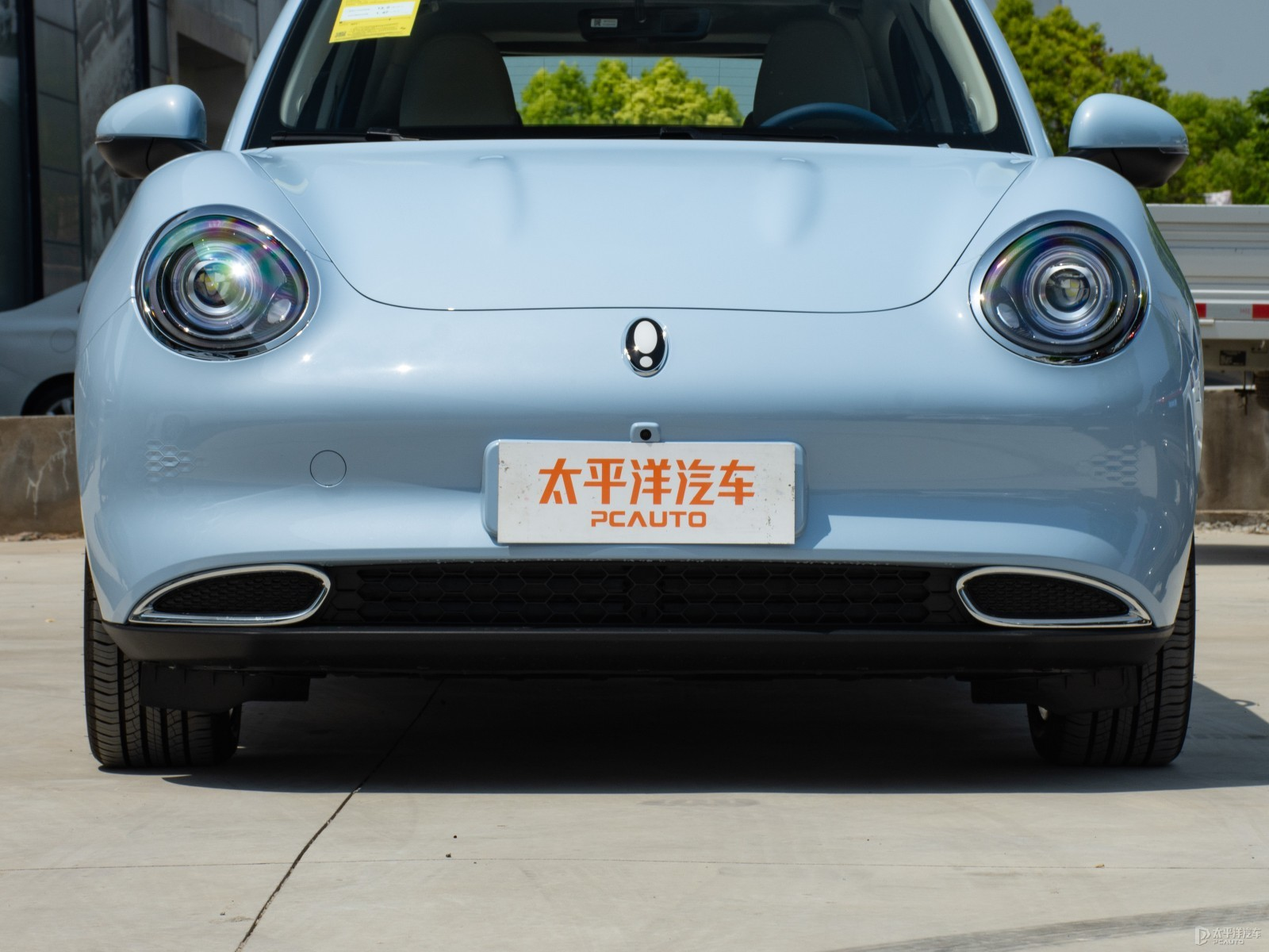ORA: (624, 318, 668, 376)
